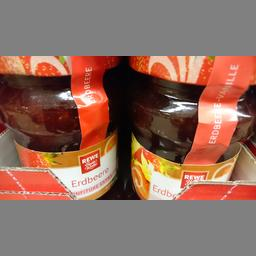jam: (124, 55, 252, 199), (0, 55, 119, 199)
